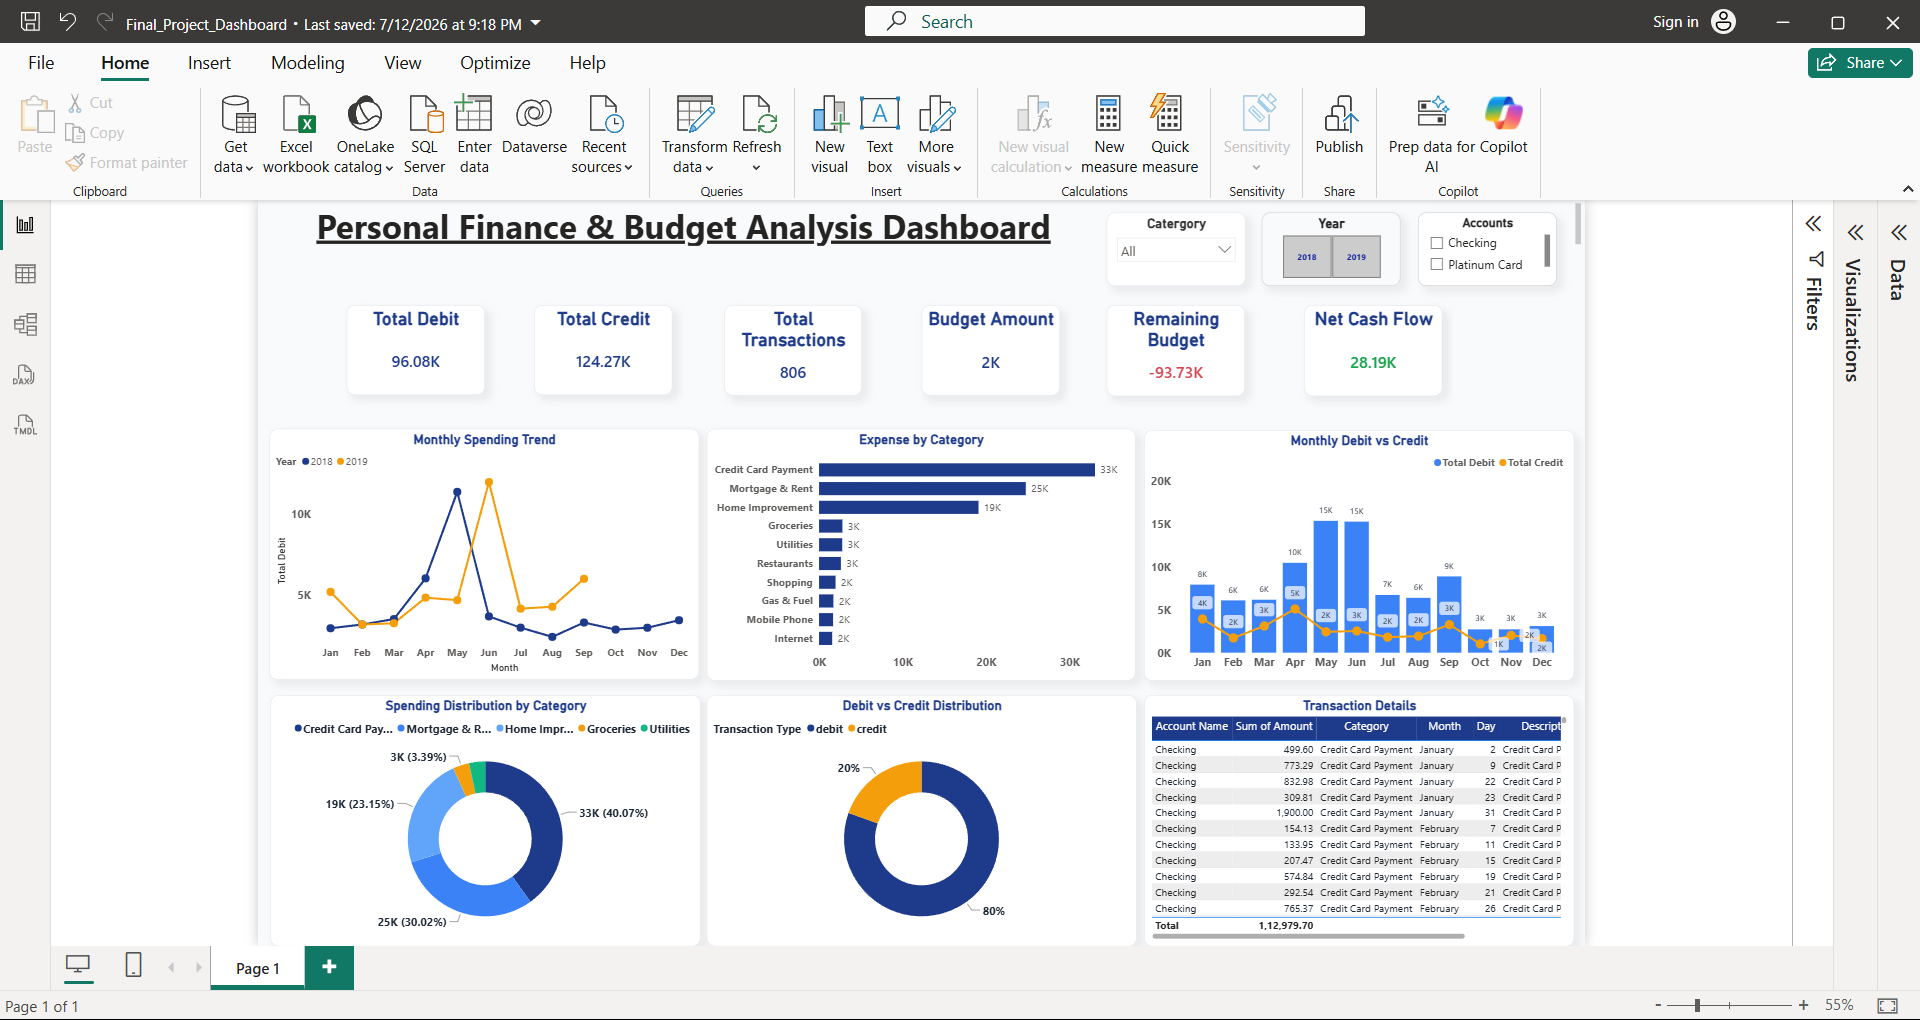

The page's visual inventory and layout, read from the dashboard file:
{"tool":"powerbi","page":{"name":"Page 1","canvas":[1920,1080],"ordinal":0},"visuals":[{"type":"textbox","box":[0,0,1920.6,71.7],"z":0},{"type":"cardVisual","title":"Total Debit","fields":{"Data":["personal_transactions.Total Debit"]},"box":[129.4,151.2,200,130],"z":1000},{"type":"cardVisual","title":"Total Credit","fields":{"Data":["personal_transactions.Total Credit"]},"box":[400.6,151.2,200,130],"z":2000},{"type":"cardVisual","title":"Total Transactions","fields":{"Data":["personal_transactions.Total Transactions"]},"box":[675,151.2,199.5,131],"z":3000},{"type":"cardVisual","title":"Budget Amount","fields":{"Data":["personal_transactions.Budget Amount"]},"box":[960.3,151.2,200,131],"z":4000},{"type":"cardVisual","title":"Remaining Budget","fields":{"Data":["personal_transactions.Remaining Budget"]},"box":[1228.4,151.2,200,132],"z":5000},{"type":"cardVisual","title":"Net Cash Flow","fields":{"Data":["personal_transactions.Net Cash Flow"]},"box":[1515.2,151.2,200,132],"z":6000},{"type":"lineChart","title":"Monthly Spending Trend","fields":{"Category":["personal_transactions.Month"],"Y":["personal_transactions.Total Debit"],"Series":["personal_transactions.Year"]},"box":[17.1,332,622,363.2],"z":7000},{"type":"clusteredBarChart","title":"Expense by Category","fields":{"Y":["personal_transactions.Total Debit"],"Category":["personal_transactions.Category"]},"box":[650.1,332,620.4,364.8],"z":8000},{"type":"lineClusteredColumnComboChart","title":"Monthly Debit vs Credit","fields":{"Category":["personal_transactions.Month"],"Y":["personal_transactions.Total Debit"],"Y2":["personal_transactions.Total Credit"]},"box":[1283,333.6,622,363.2],"z":9000},{"type":"donutChart","title":"Spending Distribution by Category","fields":{"Y":["personal_transactions.Total Debit"],"Category":["personal_transactions.Category"]},"box":[18.1,716.6,622.5,363.7],"z":10000},{"type":"donutChart","title":"Debit vs Credit Distribution","fields":{"Category":["personal_transactions.Transaction Type"],"Y":["personal_transactions.Total Transactions"]},"box":[649.7,716.6,622.5,363.7],"z":11000},{"type":"tableEx","title":"Transaction Details","fields":{"Values":["personal_transactions.Account Name","Sum(personal_transactions.Amount)","personal_transactions.Category","personal_transactions.Date.Variation.Date Hierarchy.Month","personal_transactions.Date.Variation.Date Hierarchy.Day","personal_transactions.Description","personal_transactions.Transaction Type"]},"box":[1283,716.6,622.5,363.7],"z":12000},{"type":"slicer","title":"Catergory","fields":{"Values":["personal_transactions.Category"]},"box":[1228.8,18.1,200.9,106.8],"z":13000},{"type":"slicer","title":"Year","fields":{"Values":["personal_transactions.Year"]},"box":[1453.2,18.1,200.9,106.8],"z":14000},{"type":"slicer","title":"Accounts","fields":{"Values":["personal_transactions.Account Name"]},"box":[1679.4,18.1,200.9,106.8],"z":15000}]}

Visuals, with their boxes on the page's 1920x1080 design canvas (x1, y1, x2, y2). These are canvas units, not pixel positions in the 1920x1020 screenshot, which may show the page scaled, cropped or inside an application window:
textbox: pyautogui.locateOnScreen(0, 0, 1921, 72)
"Total Debit" cardVisual: pyautogui.locateOnScreen(129, 151, 329, 281)
"Total Credit" cardVisual: pyautogui.locateOnScreen(401, 151, 601, 281)
"Total Transactions" cardVisual: pyautogui.locateOnScreen(675, 151, 874, 282)
"Budget Amount" cardVisual: pyautogui.locateOnScreen(960, 151, 1160, 282)
"Remaining Budget" cardVisual: pyautogui.locateOnScreen(1228, 151, 1428, 283)
"Net Cash Flow" cardVisual: pyautogui.locateOnScreen(1515, 151, 1715, 283)
"Monthly Spending Trend" lineChart: pyautogui.locateOnScreen(17, 332, 639, 695)
"Expense by Category" clusteredBarChart: pyautogui.locateOnScreen(650, 332, 1270, 697)
"Monthly Debit vs Credit" lineClusteredColumnComboChart: pyautogui.locateOnScreen(1283, 334, 1905, 697)
"Spending Distribution by Category" donutChart: pyautogui.locateOnScreen(18, 717, 641, 1080)
"Debit vs Credit Distribution" donutChart: pyautogui.locateOnScreen(650, 717, 1272, 1080)
"Transaction Details" tableEx: pyautogui.locateOnScreen(1283, 717, 1906, 1080)
"Catergory" slicer: pyautogui.locateOnScreen(1229, 18, 1430, 125)
"Year" slicer: pyautogui.locateOnScreen(1453, 18, 1654, 125)
"Accounts" slicer: pyautogui.locateOnScreen(1679, 18, 1880, 125)
